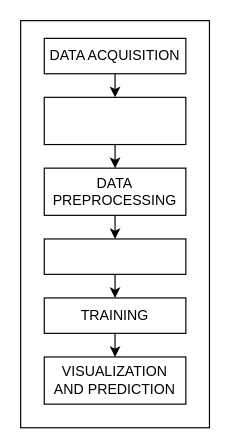
The diagram is 230 pixels wide and 448 high, and some of its shapes have lost their labels. The centre of each missing label's shape, as x and y in pixels:
"EXPLORATORY DATA ANALYSIS" belongs at (114,120).
"RNN FORMATION" belongs at (114,256).
